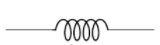inductor: (51, 13, 114, 41)
